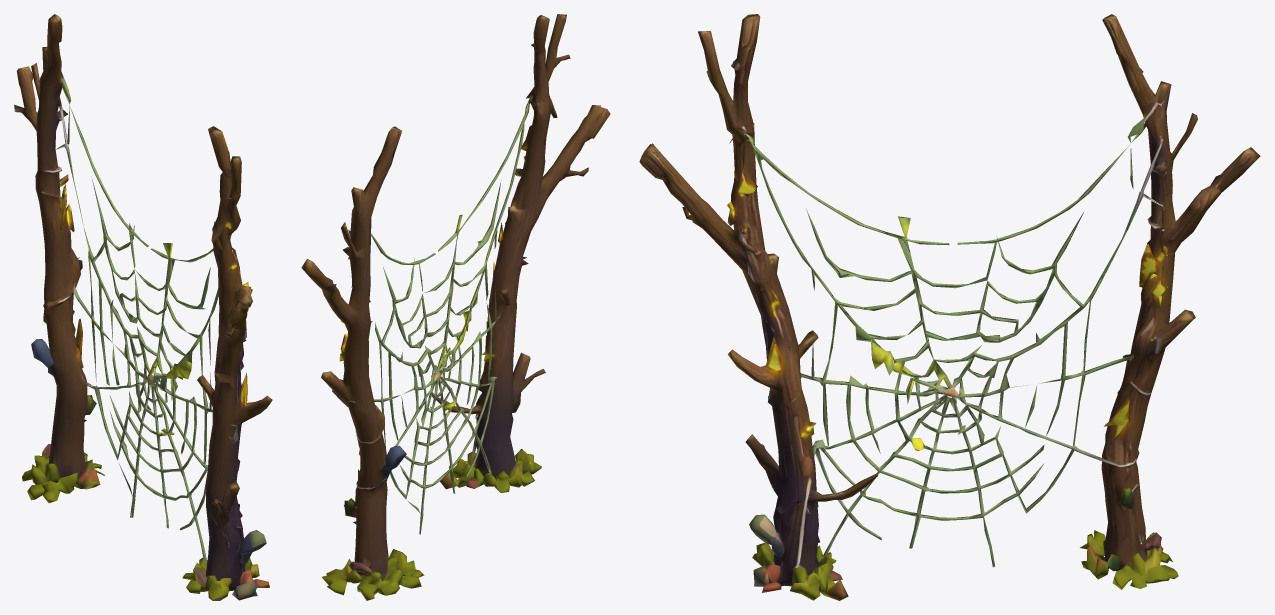
File: prop_paralysis_web_v2_model.glb
3 renders of one model, left to right at view 1: azimuth 30°, elevation 25°; view 2: azimuth 150°, elevation 25°; view 3: azimuth 270°, elevation 25°, orthographic. The views are drawn at different scales.
Visible parts, largest first — view 1: tripo_node_aaa8a72b-e2b3-428a-bfb2-a5485dfc0b22; view 2: tripo_node_aaa8a72b-e2b3-428a-bfb2-a5485dfc0b22; view 3: tripo_node_aaa8a72b-e2b3-428a-bfb2-a5485dfc0b22.
Boxes of the visible parts, x1=… form: tripo_node_aaa8a72b-e2b3-428a-bfb2-a5485dfc0b22: x1=14, y1=14, x2=272, y2=600; tripo_node_aaa8a72b-e2b3-428a-bfb2-a5485dfc0b22: x1=301, y1=14, x2=610, y2=600; tripo_node_aaa8a72b-e2b3-428a-bfb2-a5485dfc0b22: x1=639, y1=14, x2=1260, y2=600.
Bounding box in the file's own units: 0.2073 × 0.9744 × 1.
Materials: 1 (1 with a texture image).
